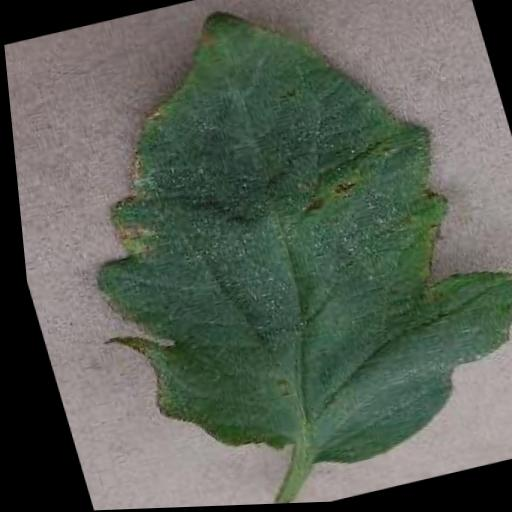Bacterial Spot: (13, 0, 512, 512)
